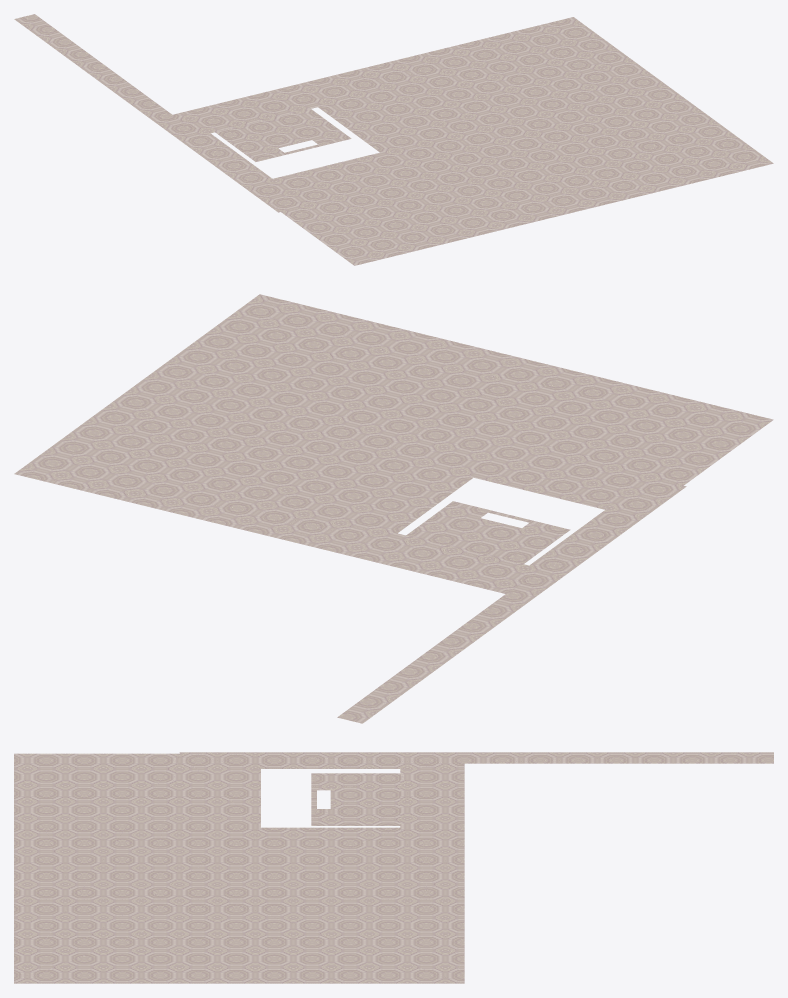
File: kd_stage_135ded_4_103_exterior.glb
3 renders of one model, top to bottom at view 1: azimuth 30°, elevation 25°; view 2: azimuth 150°, elevation 25°; view 3: azimuth 270°, elevation 25°, orthographic. The views are drawn at different scales.
Parts seen in each view (by area): view 1: kd_stage_135ded_4_103_exterior; view 2: kd_stage_135ded_4_103_exterior; view 3: kd_stage_135ded_4_103_exterior.
Part boxes in pixels (x1,y1,x2,y2): kd_stage_135ded_4_103_exterior: [14, 14, 773, 265]; kd_stage_135ded_4_103_exterior: [14, 294, 773, 723]; kd_stage_135ded_4_103_exterior: [14, 752, 773, 983].
Bounding box in the file's own units: 3.18 × 0.00879 × 4.42.
Materials: 1 (1 with a texture image).
